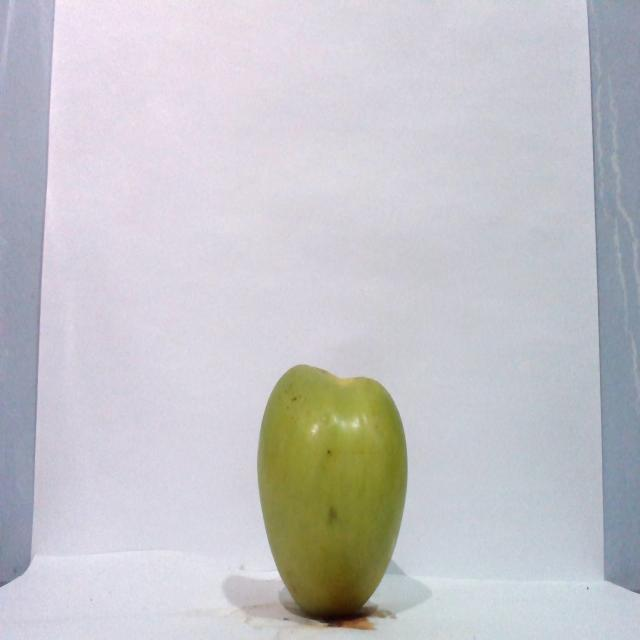Red: (255, 362, 409, 619)
